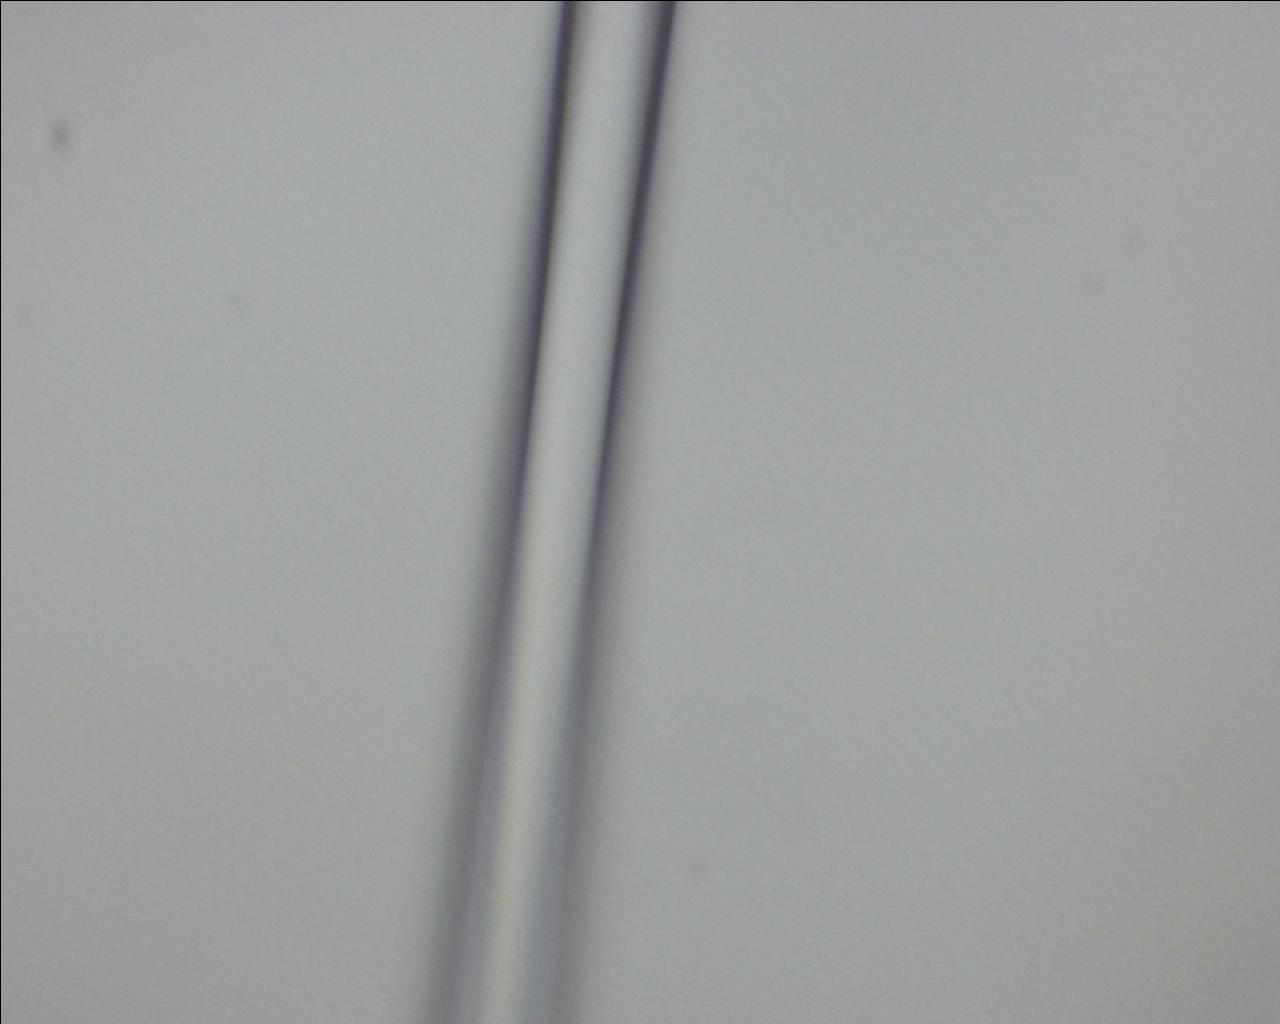fiber: (1069, 0, 1209, 501), (14, 501, 67, 1024), (1058, 501, 1078, 1024)
